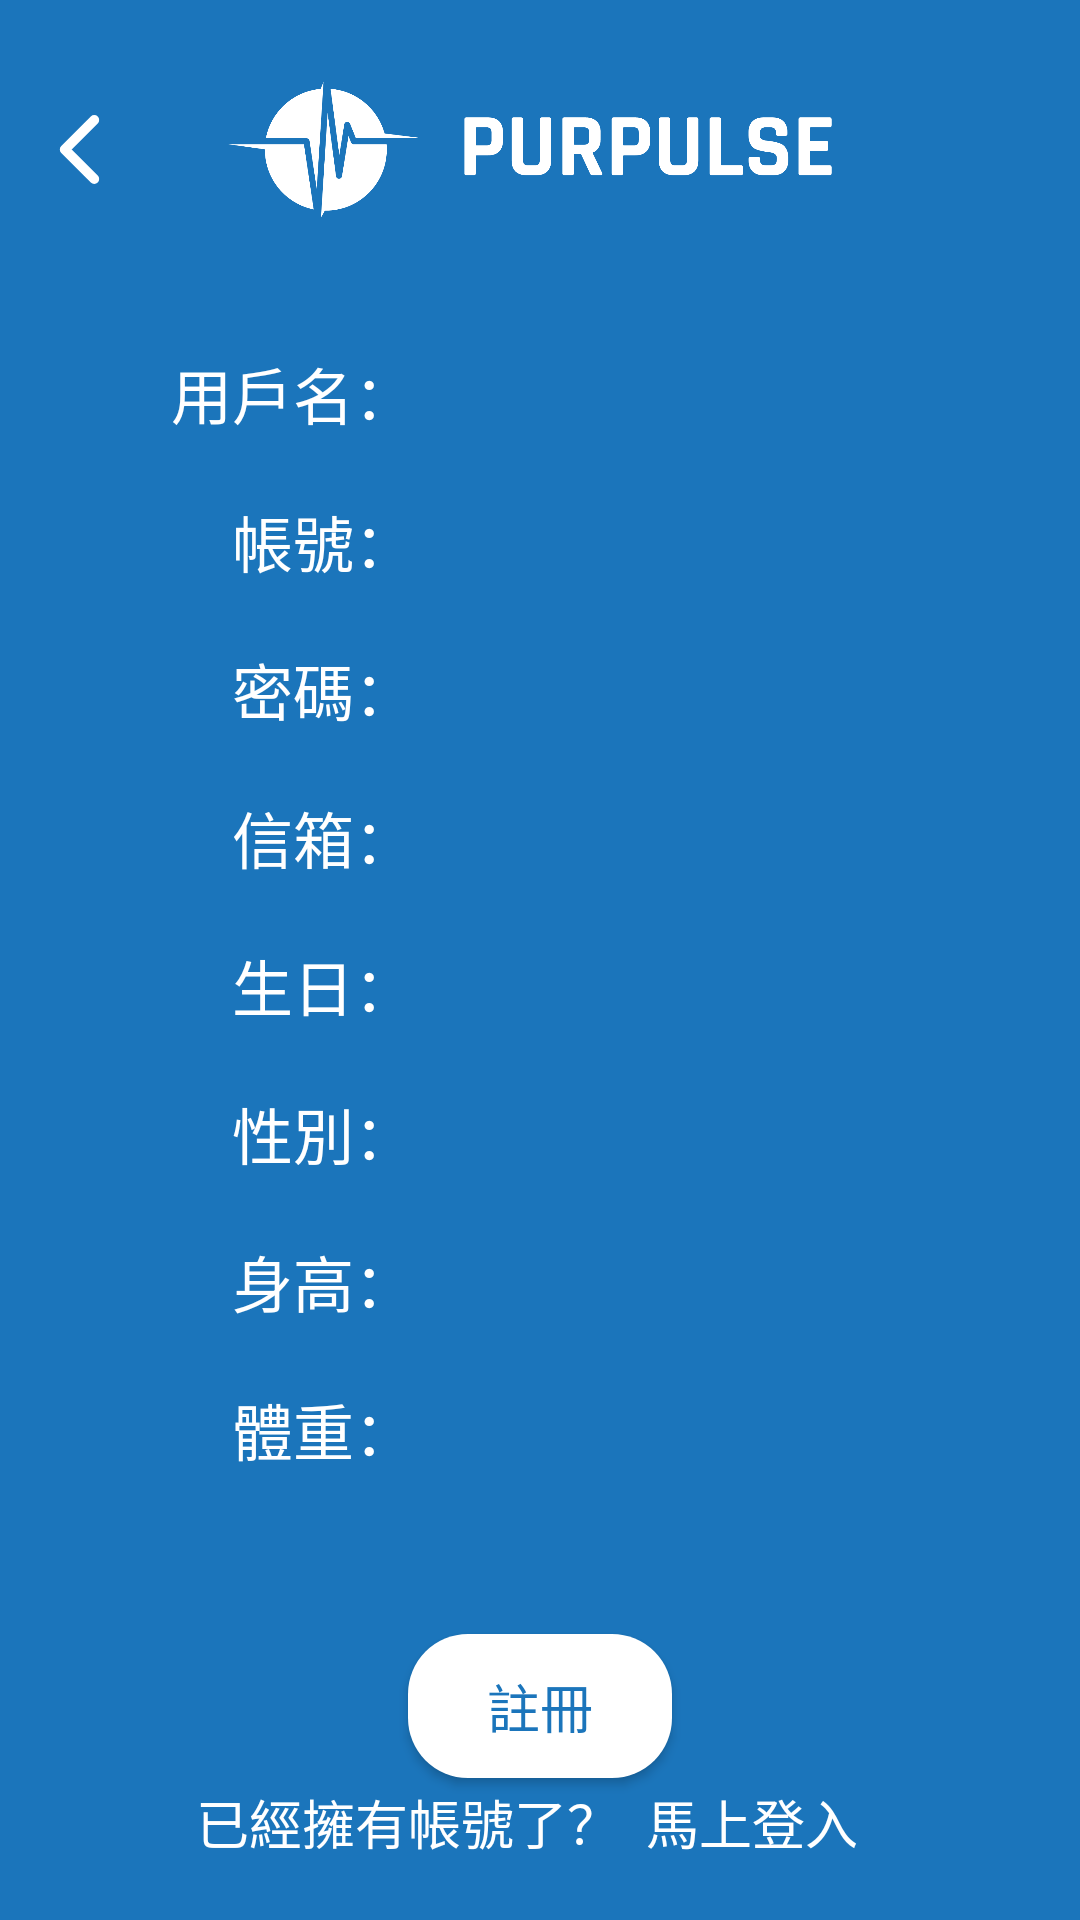

Icons on this 1080 × 1920 Android screen, each with the point to tap as (x,y):
chevron back: (79,149)
